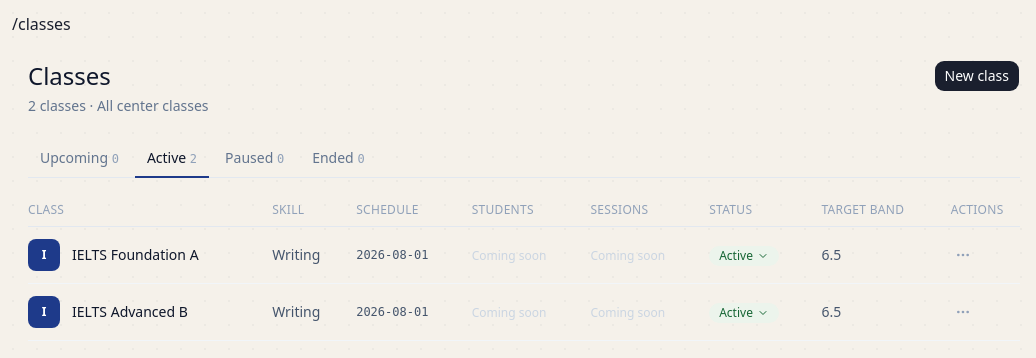
Test: ClassesPage — detail link-up (AC5) › actions menu exposes "View details" pointing at the same destination
Expected: the link "IELTS Foundation A" is shown, [72,245,199,265]
What coordinates should you click on to do the following:
click the button named "Actions for IELTS Foundation A"
I would click on:
 (963, 254)
Its box is [951,242,975,266].
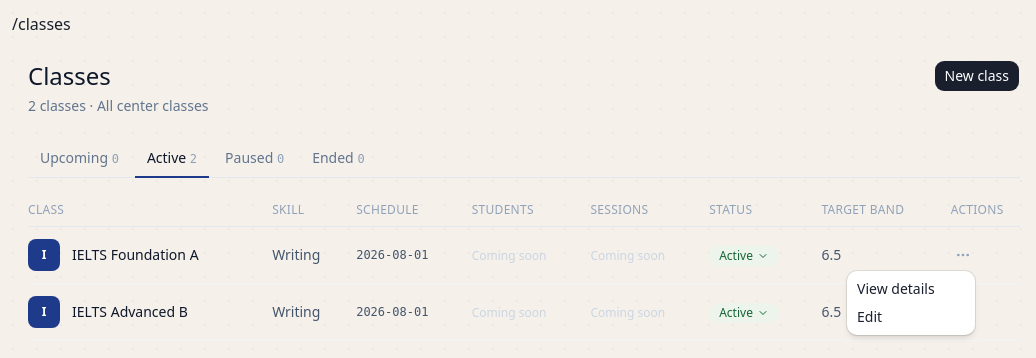
Now the menu item "View details" is shown, box [857,279,935,298]
Now the menu item "Edit" is shown, box [857,307,882,326]
